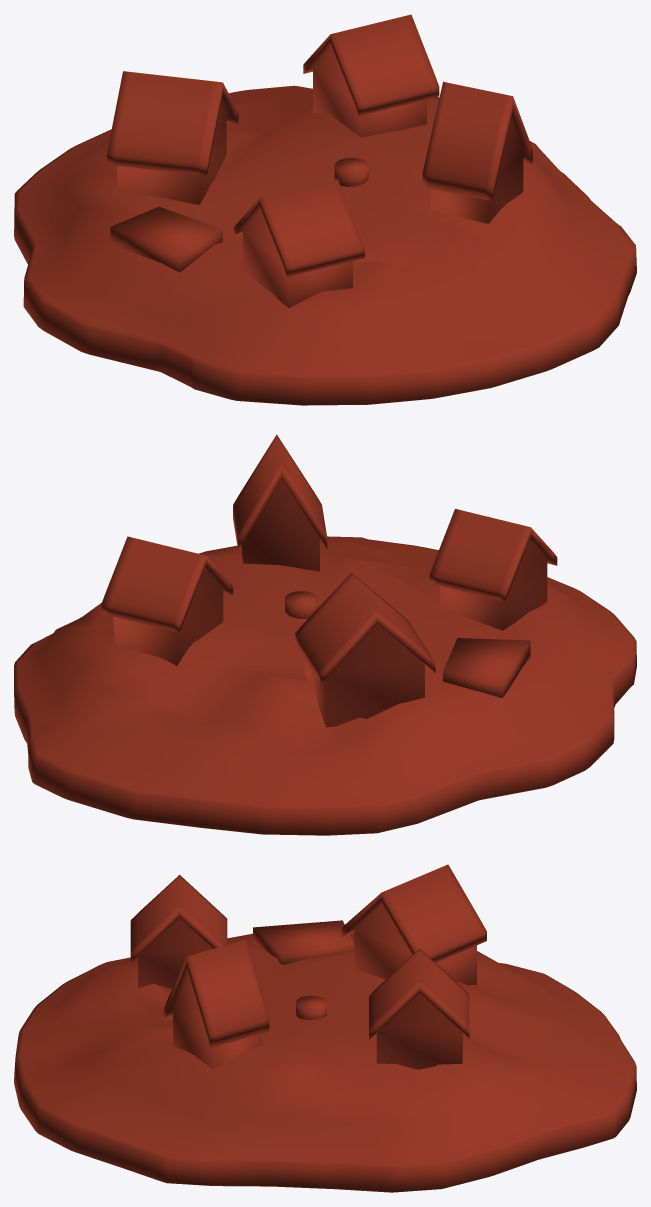
Rendered from settlement.fbx.
3 views of the same model, one above another, from view 1: azimuth 30°, elevation 25°; view 2: azimuth 150°, elevation 25°; view 3: azimuth 270°, elevation 25° (orthographic). The views are drawn at different scales.
Visible parts, largest first — view 1: settlement; view 2: settlement; view 3: settlement.
Boxes of the visible parts, left/top/right/bottom form: settlement: left=14, top=14, right=636, bottom=405; settlement: left=14, top=434, right=636, bottom=835; settlement: left=14, top=864, right=636, bottom=1192.
Bounding box in the file's own units: 46.77 × 16.45 × 51.89.
